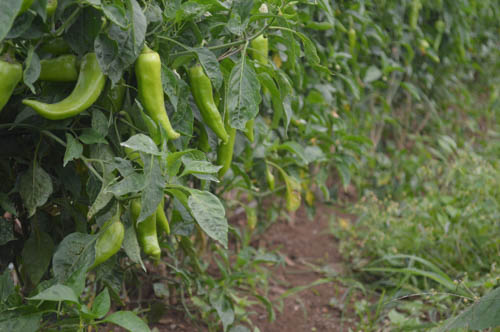ChiliPepper: (23, 54, 104, 115), (134, 53, 177, 138), (189, 63, 228, 143), (130, 194, 158, 258), (87, 222, 124, 266), (28, 55, 76, 83), (248, 33, 271, 87), (220, 107, 236, 181), (1, 58, 20, 109)
